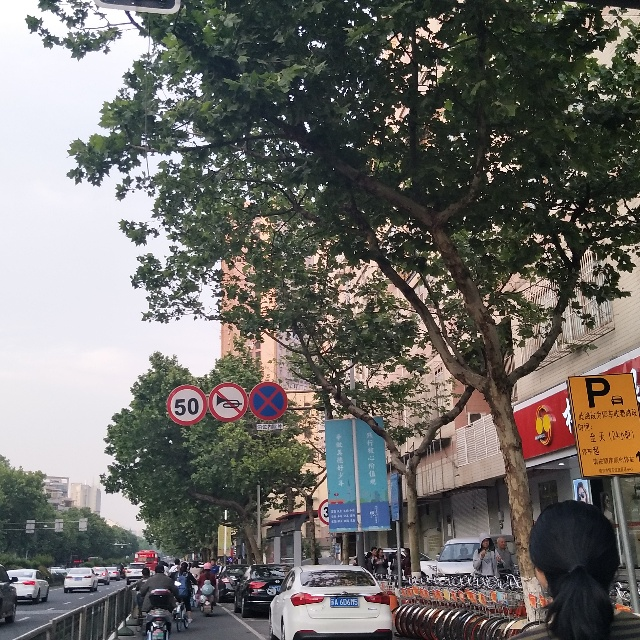nohonk: (213, 389, 245, 421)
stop: (249, 384, 283, 420)
